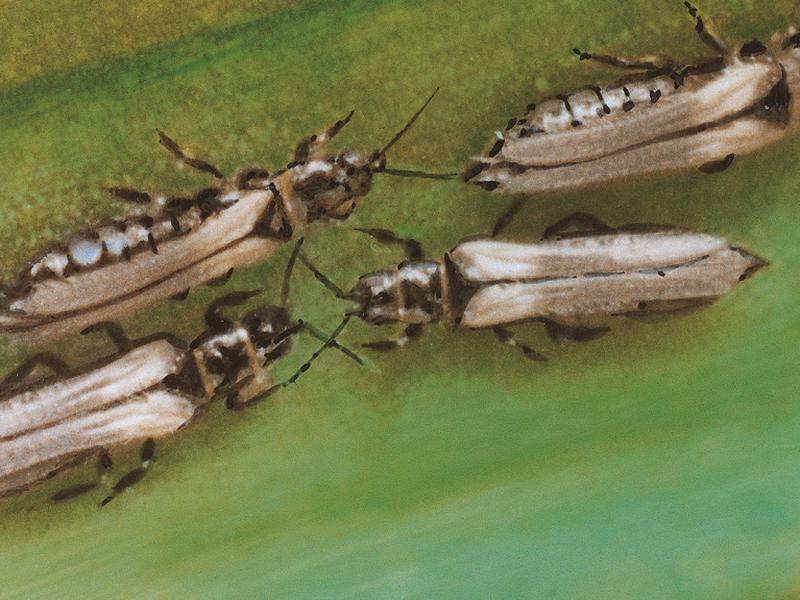Thrips: (327, 216, 765, 339), (435, 39, 797, 186), (4, 140, 347, 275)
